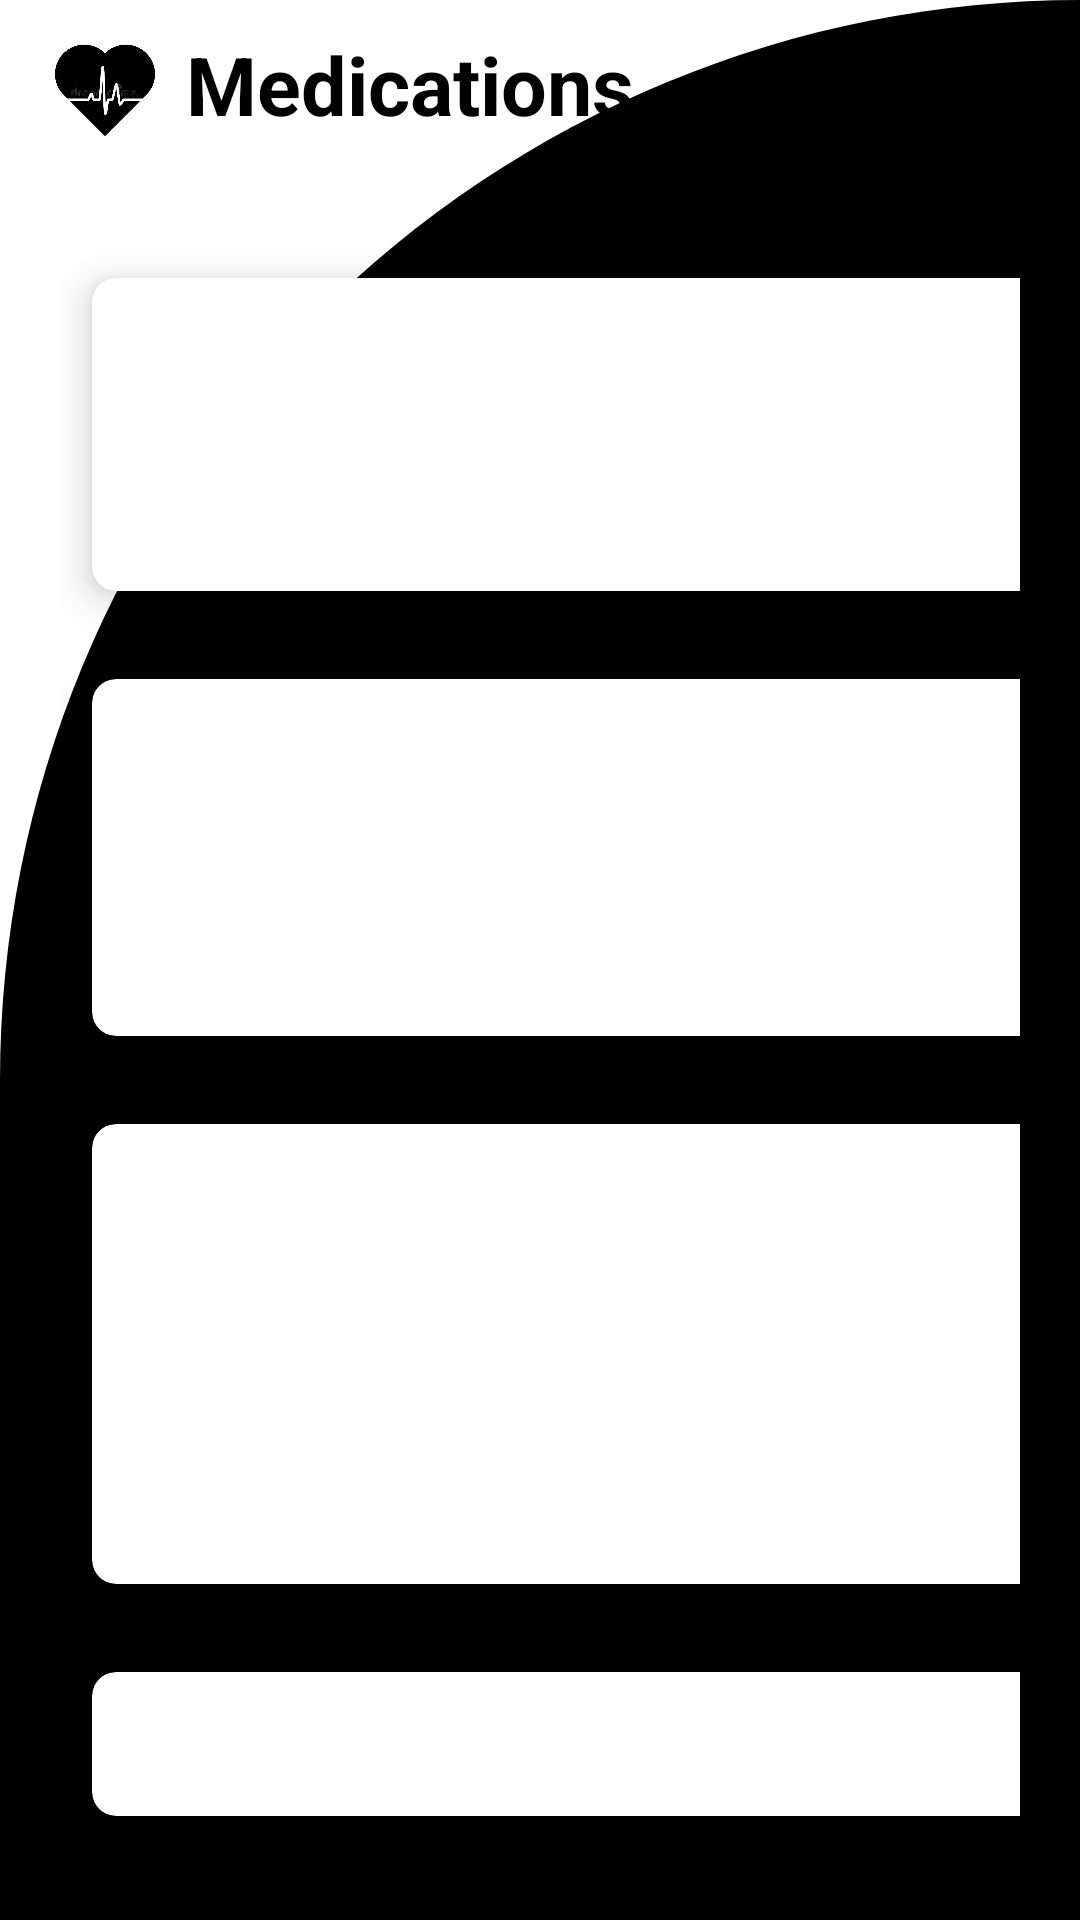

Named icons in this screenshot (1080 x 1920) and their bounding boxes, (x1=x1, y1=y1, x2=x2, y2=y2):
utibu: (x1=55, y1=44, x2=155, y2=136)
